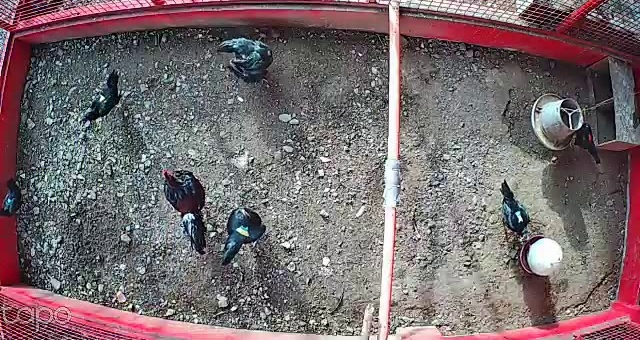Chicken: (212, 32, 277, 96), (218, 202, 271, 265), (77, 68, 130, 123), (497, 179, 532, 237), (567, 120, 602, 169)
Rooster: (159, 165, 209, 258)
Saddle_Color_Red: (588, 134, 593, 143)
Saddle_Color_White: (517, 215, 524, 222)
Saddle_Color_YellowGreen: (237, 223, 253, 237)
